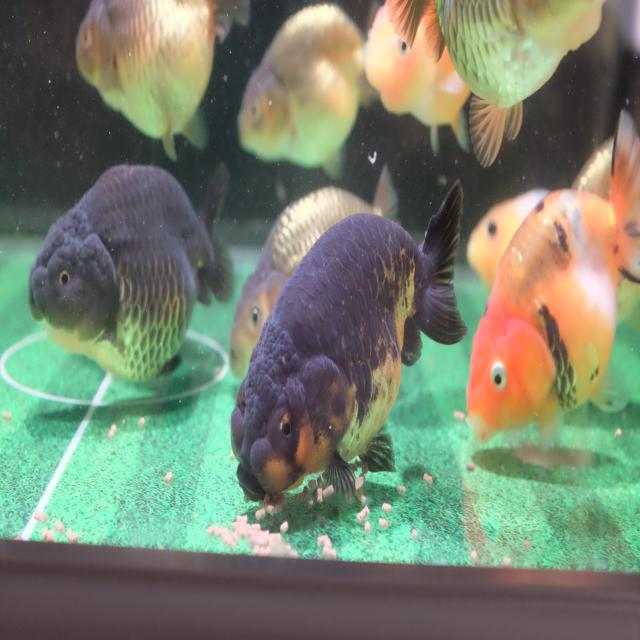Goldfish: (229, 178, 469, 508), (465, 107, 639, 448), (28, 161, 236, 387), (384, 0, 607, 168), (75, 0, 249, 160), (236, 3, 381, 174), (365, 0, 470, 154)
